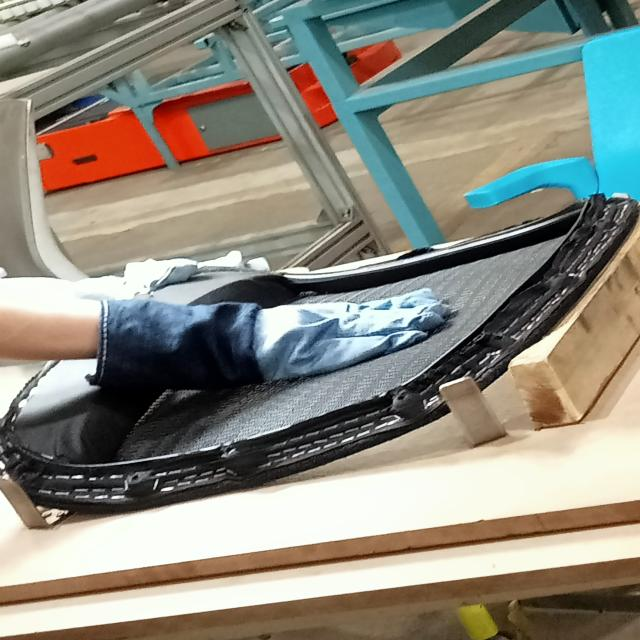Gloves-Detection: (101, 294, 446, 376)
